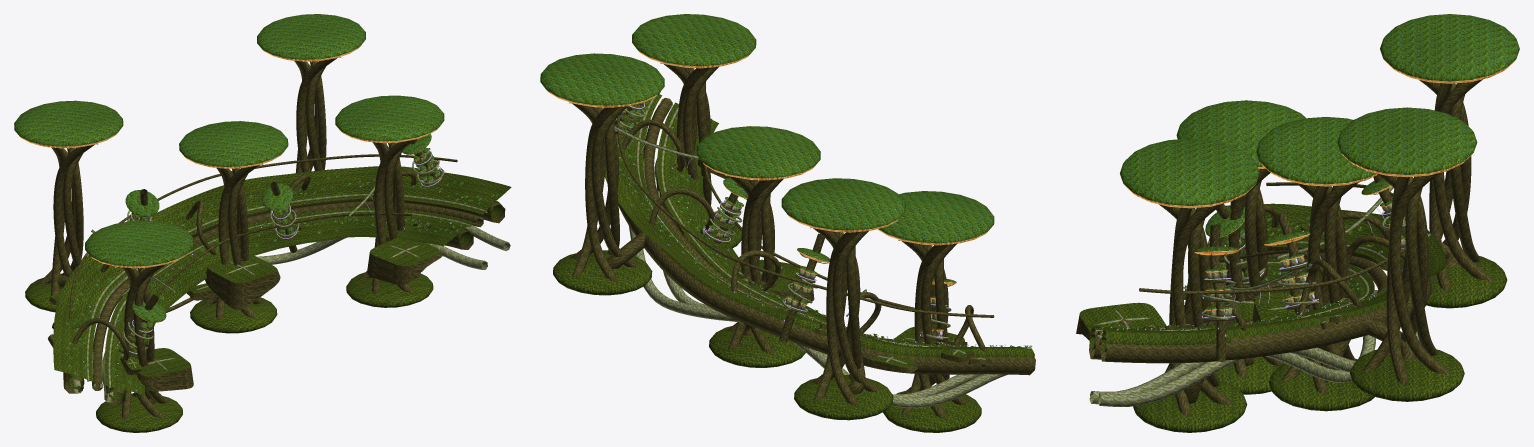
Rendered from ascent.glb.
3 renders of one model, left to right at view 1: azimuth 30°, elevation 25°; view 2: azimuth 150°, elevation 25°; view 3: azimuth 270°, elevation 25°, orthographic. The views are drawn at different scales.
Bounding box in the file's own units: 894 × 603 × 602.
Materials: 8 (8 with a texture image).
